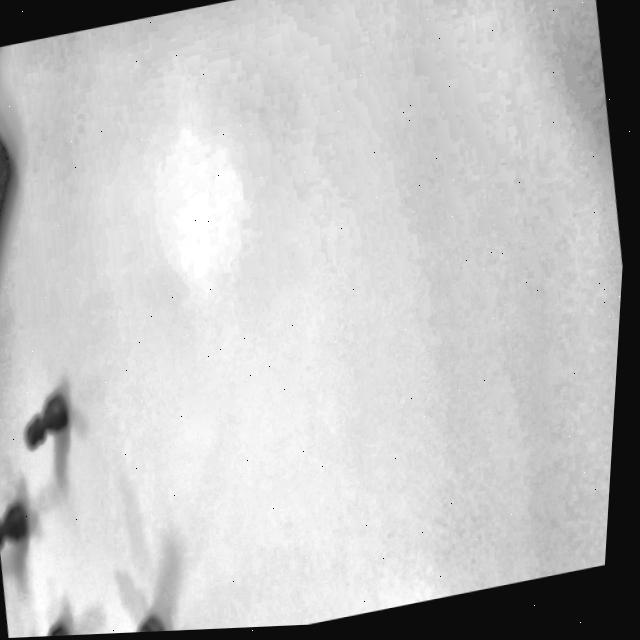black-pawn: (7, 375, 87, 460), (17, 600, 80, 638)
